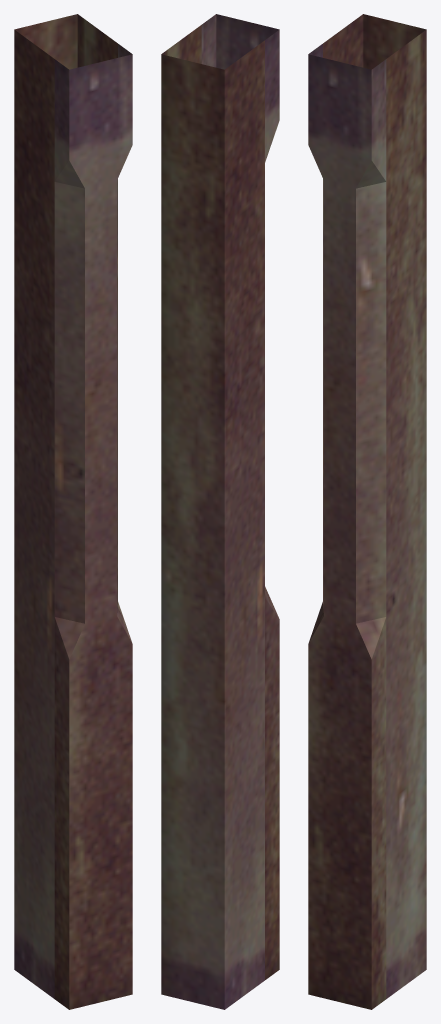
The model's file is SM_BLD_METAPILLAR_02.fbx.
The picture shows the model from 3 angles, left to right: view 1: azimuth 30°, elevation 25°; view 2: azimuth 150°, elevation 25°; view 3: azimuth 330°, elevation 25°; orthographic projection.
Parts seen in each view (by area): view 1: SM_BLD_METAPILLAR_02; view 2: SM_BLD_METAPILLAR_02; view 3: SM_BLD_METAPILLAR_02.
Boxes of the visible parts, x1,y1,x2,y2 form: SM_BLD_METAPILLAR_02: [14, 14, 132, 1009]; SM_BLD_METAPILLAR_02: [161, 14, 279, 1009]; SM_BLD_METAPILLAR_02: [308, 14, 426, 1009].
Bounding box in the file's own units: 0.3 × 4.25 × 0.4506.
